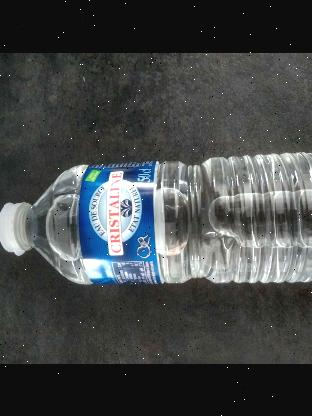Plastic Bottle: (0, 150, 312, 284)
